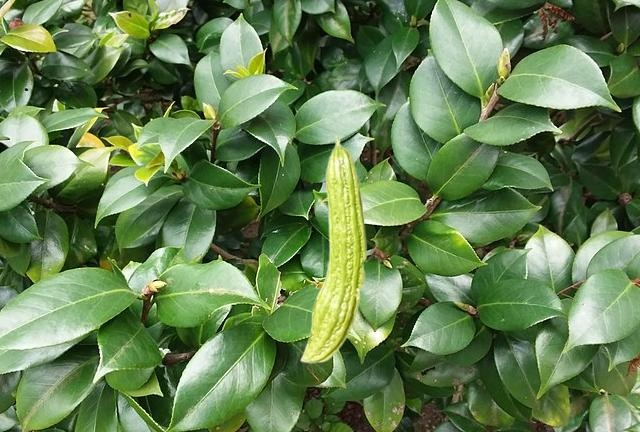ampalaya: (299, 134, 369, 364)
